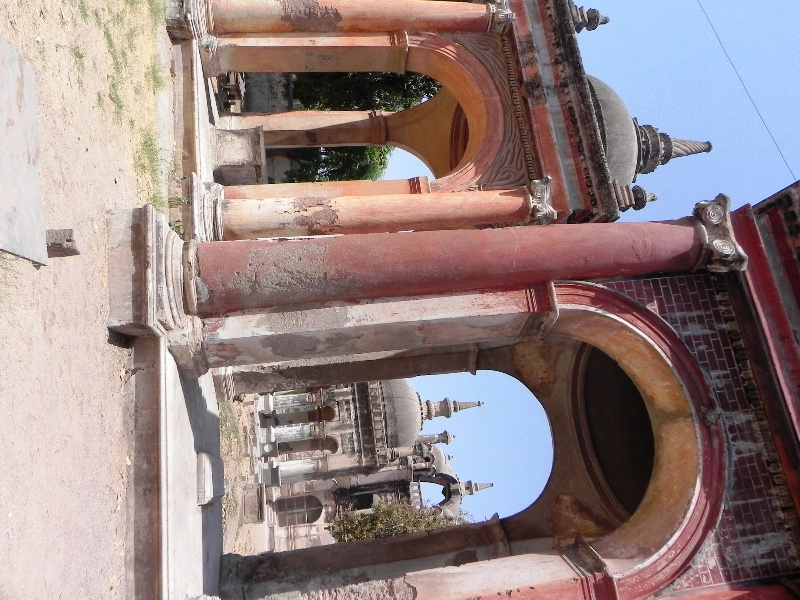Spalling: (299, 576, 421, 600), (267, 1, 350, 34), (291, 196, 342, 232), (193, 247, 216, 315)
